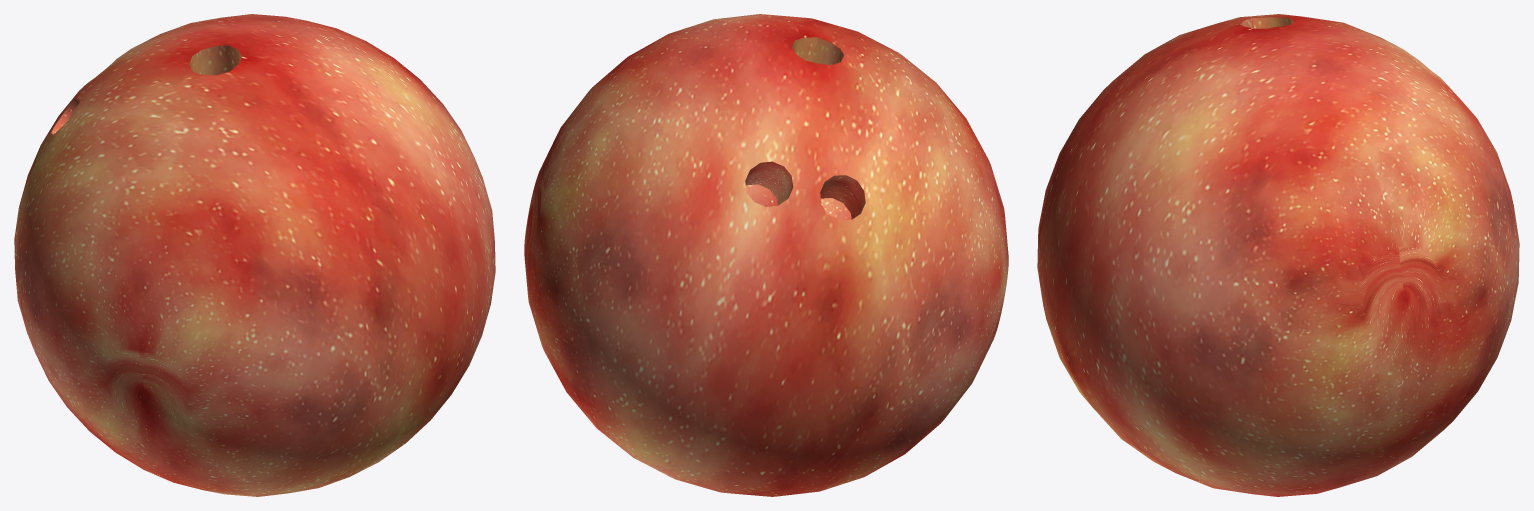
File: BowlingBall_Red.fbx
3 renders of one model, left to right at view 1: azimuth 30°, elevation 25°; view 2: azimuth 150°, elevation 25°; view 3: azimuth 270°, elevation 25°, orthographic.
Parts seen in each view (by area): view 1: BowlingBall_Red; view 2: BowlingBall_Red; view 3: BowlingBall_Red.
Boxes of the visible parts, bbox=[...] form: BowlingBall_Red: bbox=[14, 14, 495, 496]; BowlingBall_Red: bbox=[524, 14, 1008, 496]; BowlingBall_Red: bbox=[1037, 14, 1519, 496].
Bounding box in the file's own units: 0.2077 × 0.2073 × 0.2072.
